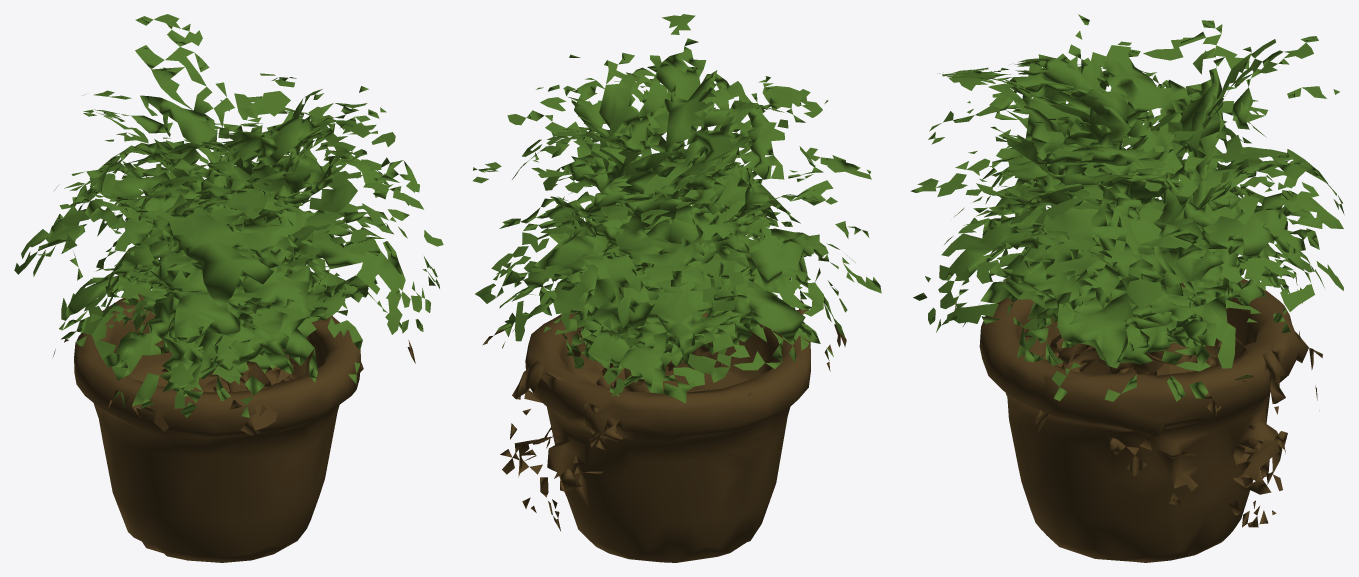
Rendered from petite_plante_4.glb.
3 renders of one model, left to right at view 1: azimuth 30°, elevation 25°; view 2: azimuth 150°, elevation 25°; view 3: azimuth 270°, elevation 25°, orthographic. The views are drawn at different scales.
Parts seen in each view (by area): view 1: Mesh1; view 2: Mesh1; view 3: Mesh1.
Boxes of the visible parts, x1=… form: Mesh1: x1=14, y1=14, x2=443, y2=562; Mesh1: x1=473, y1=14, x2=881, y2=562; Mesh1: x1=910, y1=14, x2=1344, y2=562.
Bounding box in the file's own units: 1.68 × 1.99 × 1.6.
